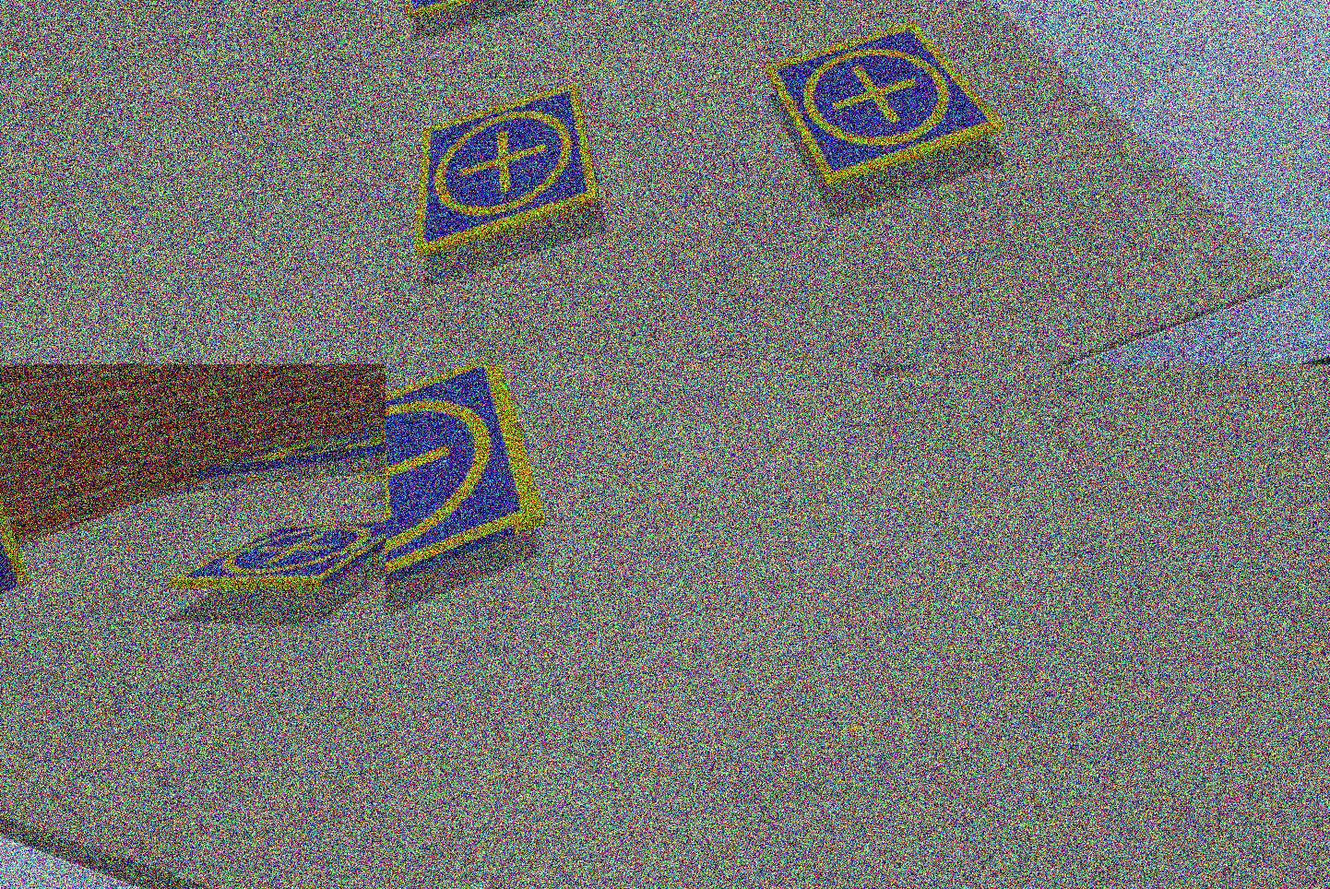large_base: (194, 400, 386, 494)
small_base: (763, 8, 1012, 197), (386, 365, 557, 626), (387, 86, 612, 260), (160, 494, 386, 617), (391, 1, 540, 23)
